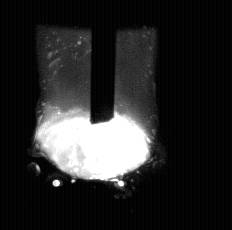arame: (91, 0, 115, 125)
poca: (36, 0, 148, 230)
